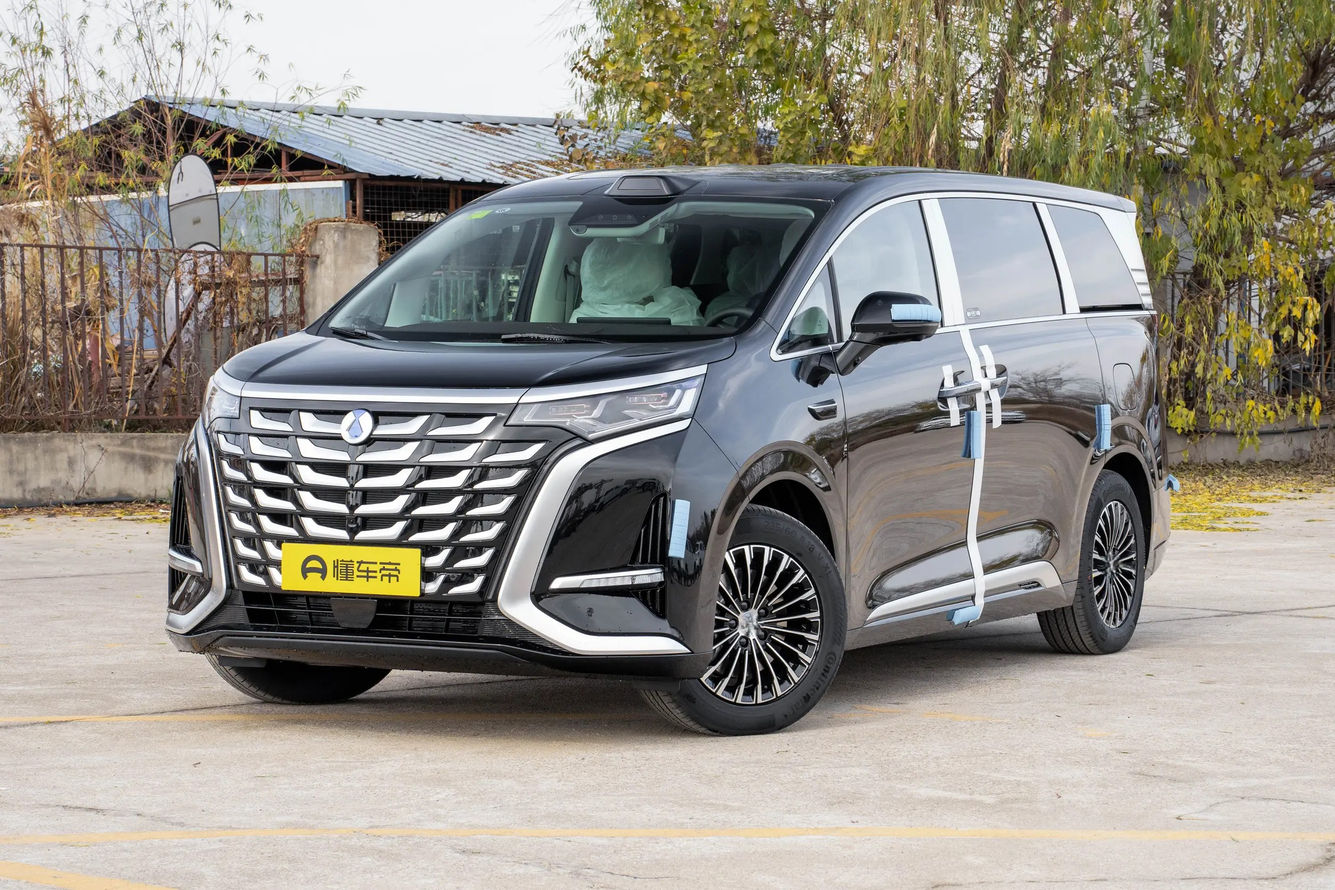DENZA: (341, 409, 372, 443)
